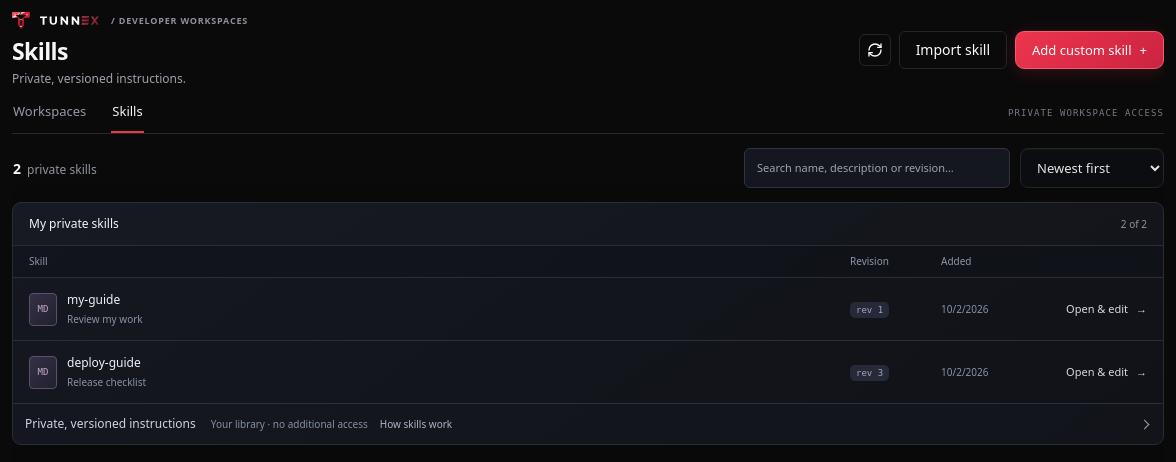
searches actual skill metadata and distinguishes no matches from an empty library
This screenshot has width=1176, height=462.
Expected: the link with aria-label "Edit my-guide" is shown, [1066,301,1147,318]
In the field named "Search private skills": (877, 168) [744,148,1010,188], type "Release"
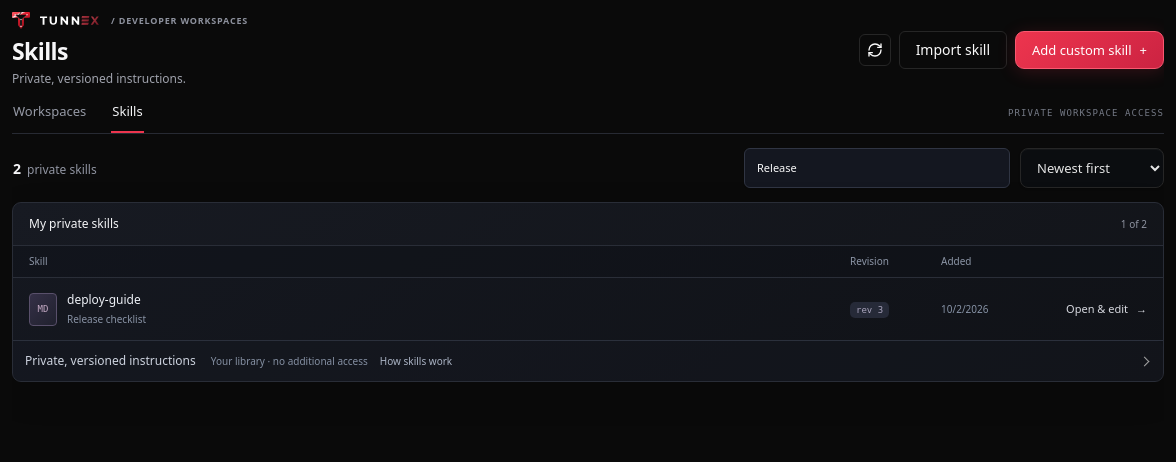
Expected: the link with aria-label "Edit deploy-guide" is shown, [1066,301,1147,318]
Replace the text in the field named "Search private skills" with "unknown": (877, 168) [744,148,1010,188]
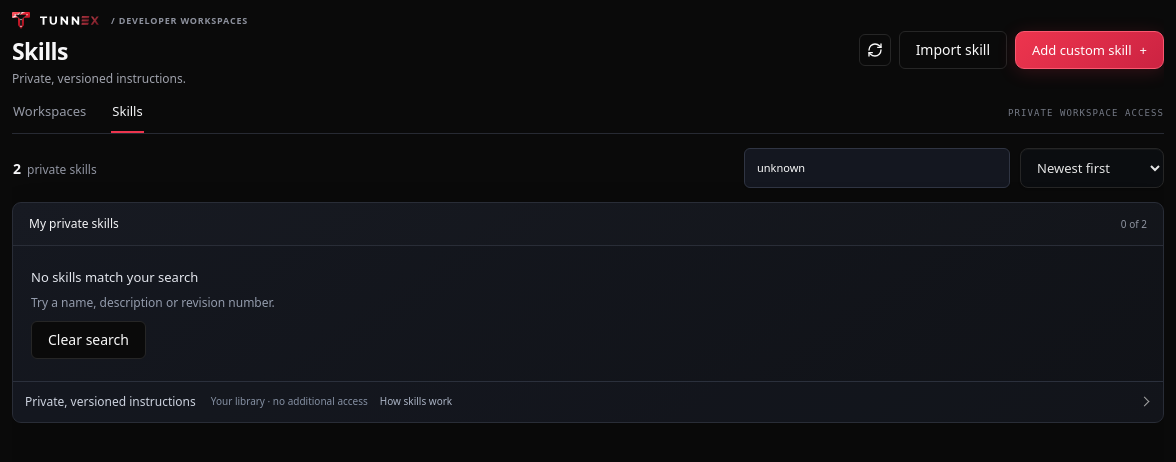
Expected: the heading "No skills match your search" is shown, [31,268,198,286]
Click the button "Clear search": (88, 340) [31,321,146,359]
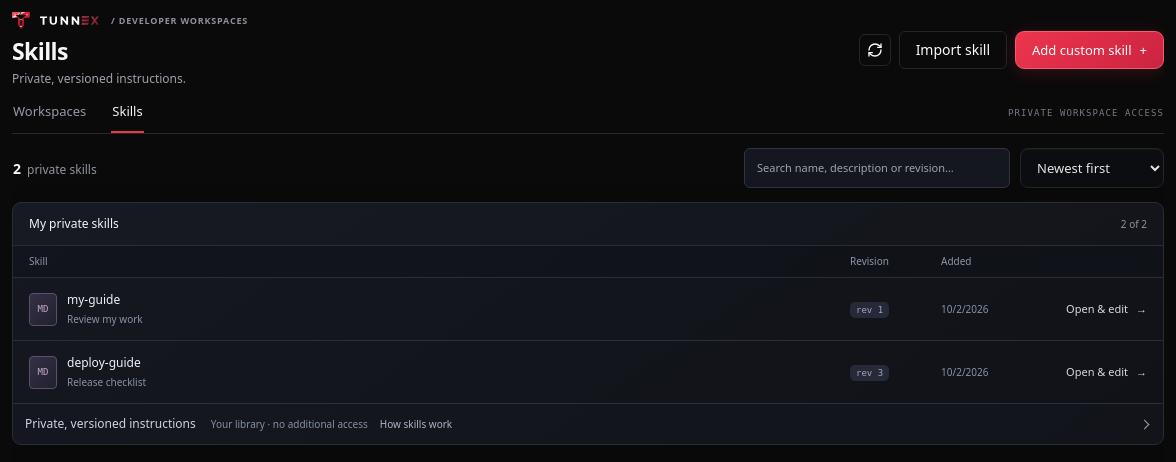
Expected: the link with aria-label "Edit my-guide" is shown, [1066,301,1147,318]
